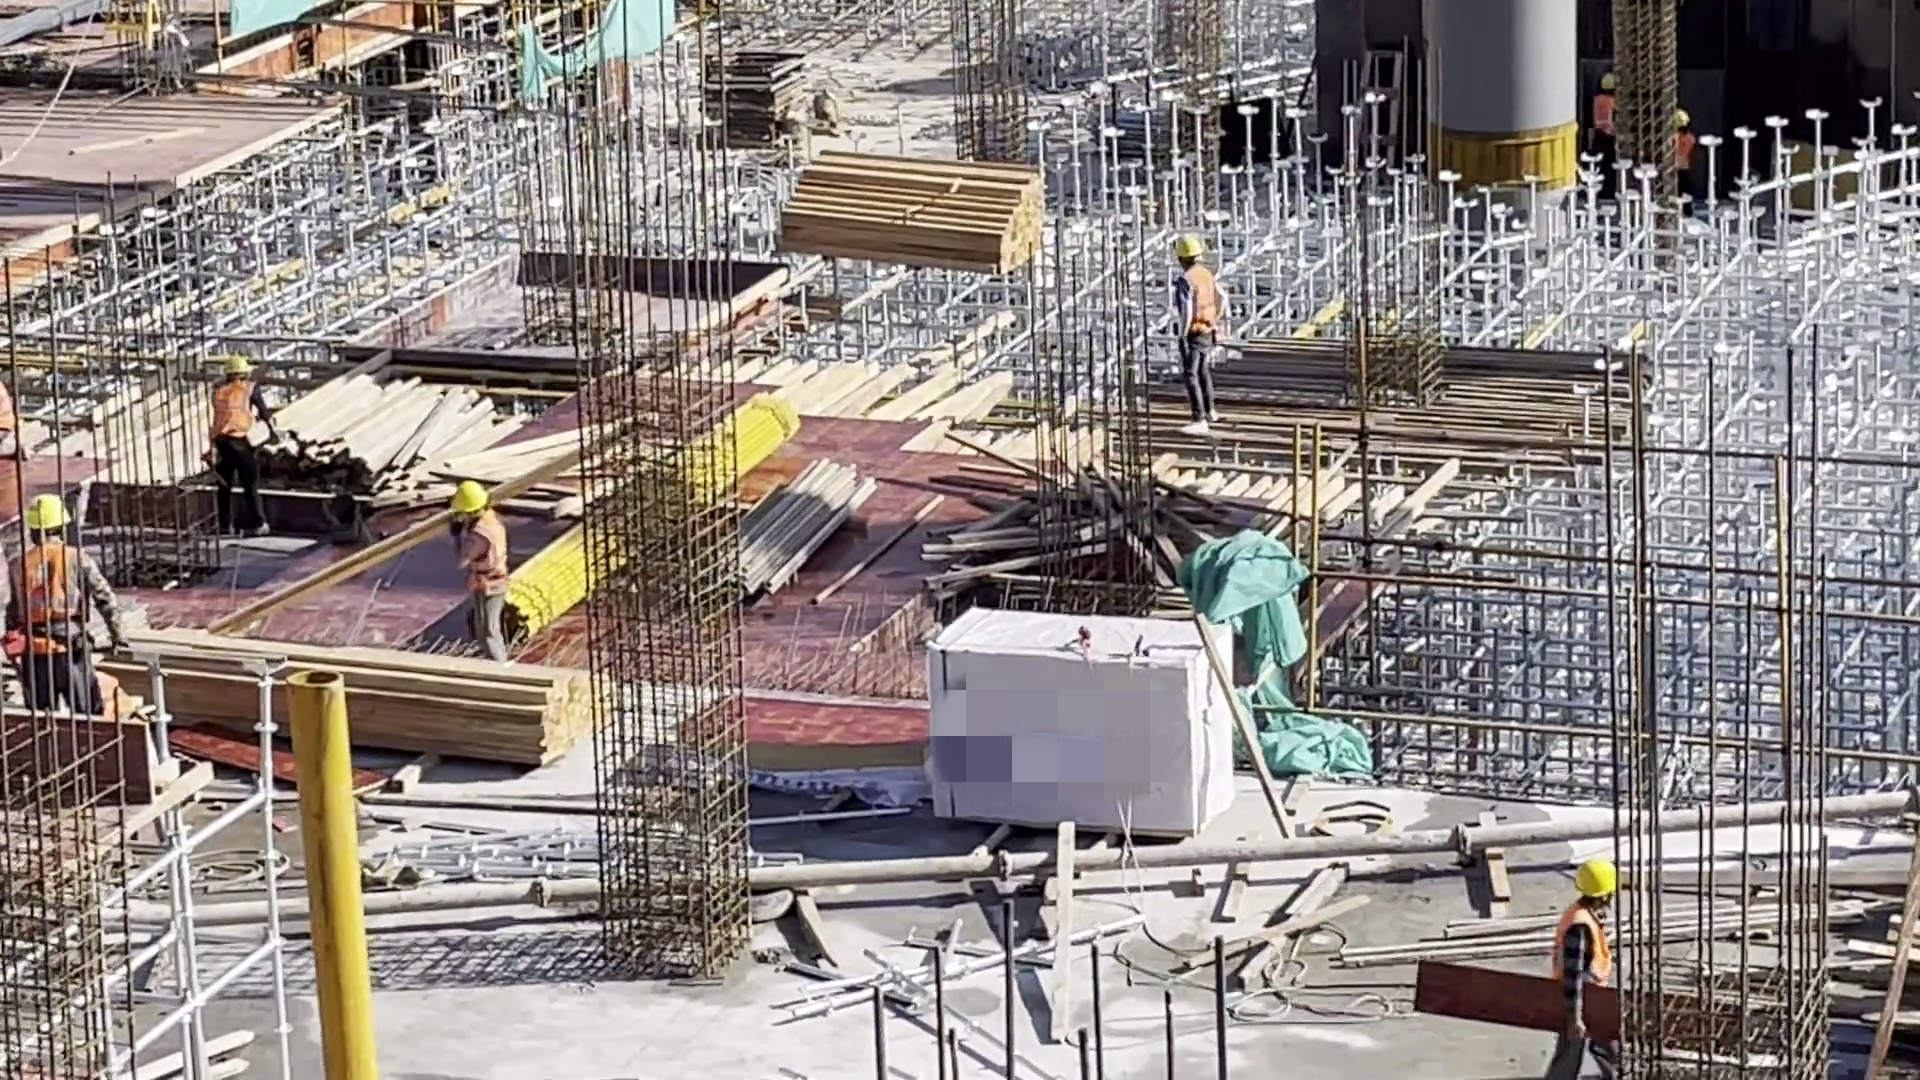board: (721, 692, 903, 824), (706, 52, 841, 149)
helmet: (1584, 854, 1629, 901), (28, 482, 74, 517), (1178, 222, 1208, 262), (221, 356, 249, 382), (454, 486, 484, 509), (1599, 64, 1621, 84), (1676, 108, 1691, 125)
person: (12, 498, 129, 711), (1529, 845, 1622, 1080), (212, 356, 286, 538), (1166, 231, 1231, 421), (472, 500, 539, 663), (1591, 68, 1626, 172), (1671, 103, 1692, 173)
vest: (18, 541, 103, 661), (468, 512, 534, 591), (1546, 922, 1611, 991), (218, 379, 266, 447), (1184, 276, 1219, 344), (1594, 94, 1616, 141), (1674, 127, 1693, 176)
wood: (161, 609, 573, 746), (823, 141, 1089, 314), (299, 349, 541, 492)
